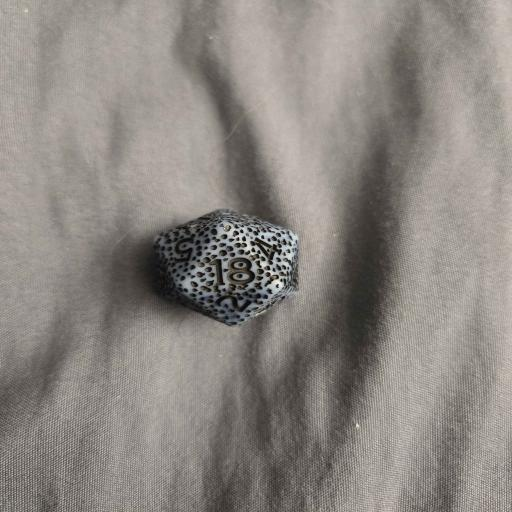twenty sided dice: (152, 208, 300, 326)
